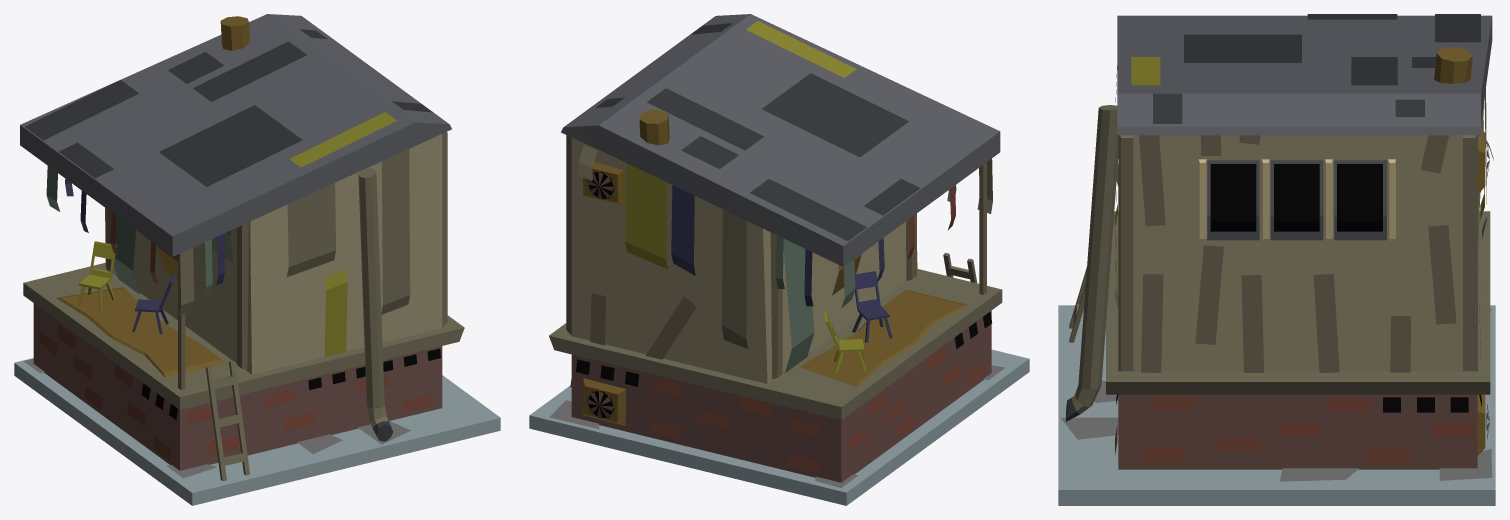
File: Slums5.1.fbx
The picture shows the model from 3 angles, left to right: view 1: azimuth 30°, elevation 25°; view 2: azimuth 150°, elevation 25°; view 3: azimuth 270°, elevation 25°; orthographic projection. The views are drawn at different scales.
Parts seen in each view (by area): view 1: Road.151, Road.148; view 2: Road.151, Road.148; view 3: Road.151, Road.148.
Boxes of the visible parts, x1=… form: Road.151: x1=20, y1=14, x2=464, y2=480; Road.148: x1=14, y1=358, x2=500, y2=505; Road.151: x1=549, y1=14, x2=1005, y2=487; Road.148: x1=529, y1=349, x2=1029, y2=505; Road.151: x1=1060, y1=14, x2=1493, y2=481; Road.148: x1=1058, y1=305, x2=1495, y2=505.
Bounding box in the file's own units: 200 × 197 × 200.
